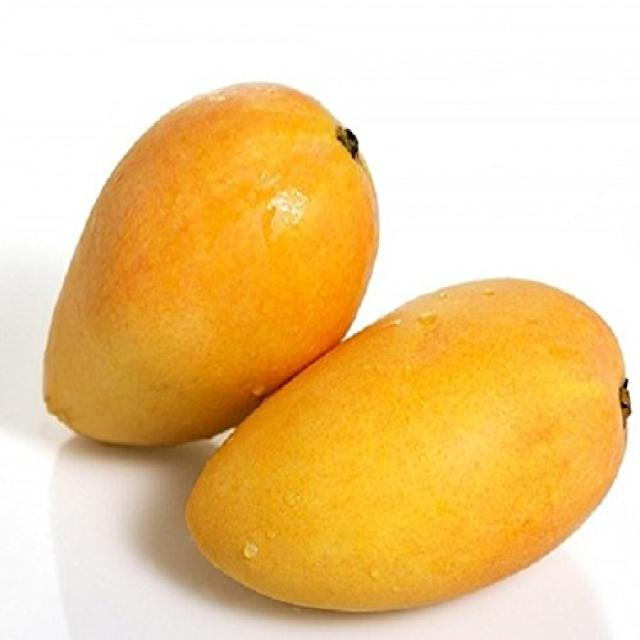mango: (184, 275, 631, 614), (41, 78, 379, 448)
